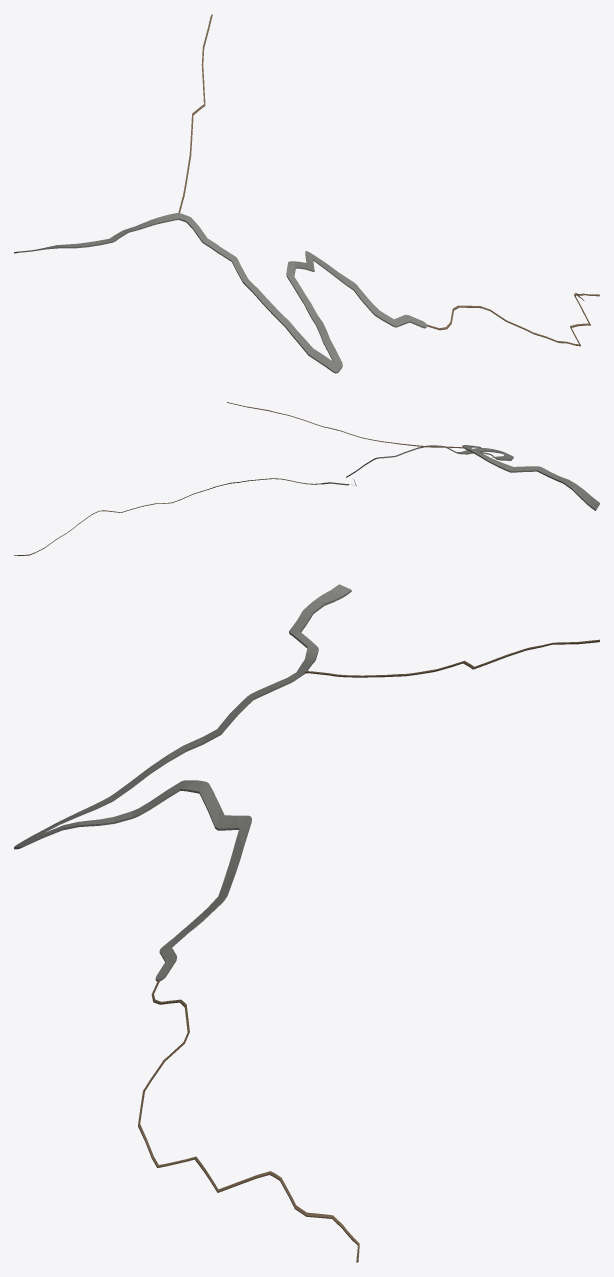
The picture shows the model from 3 angles, top to bottom: view 1: azimuth 30°, elevation 25°; view 2: azimuth 150°, elevation 25°; view 3: azimuth 270°, elevation 25°; orthographic projection. The views are drawn at different scales.
Bounding box in the file's own units: 538 × 256 × 328.
